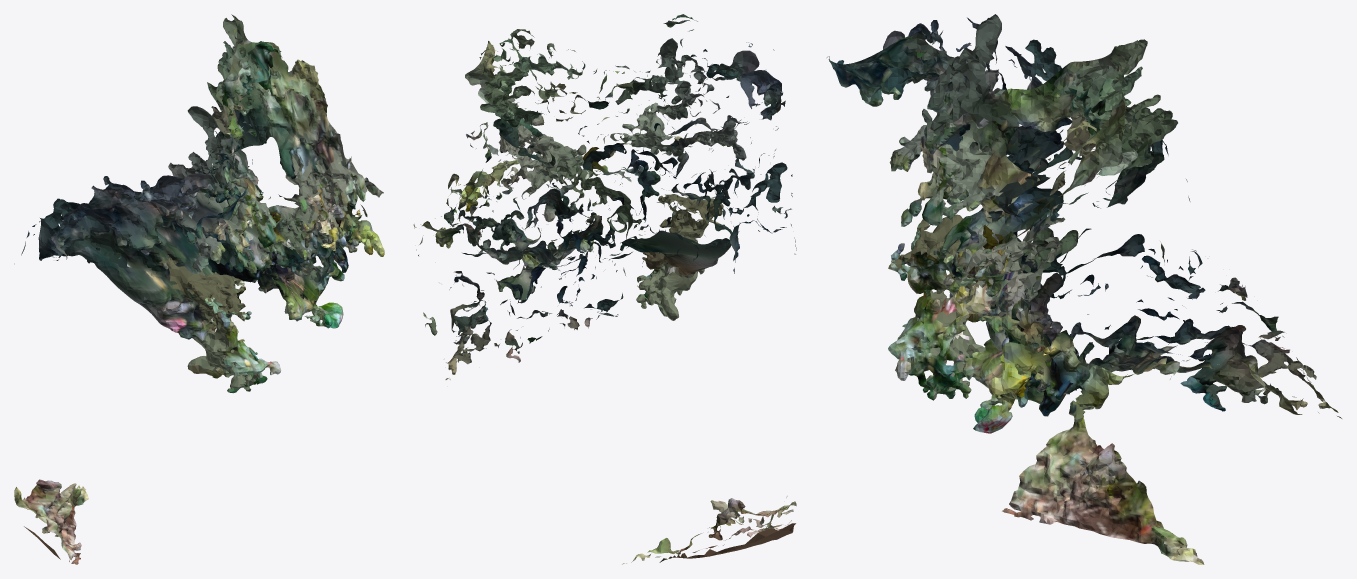
3 renders of one model, left to right at view 1: azimuth 30°, elevation 25°; view 2: azimuth 150°, elevation 25°; view 3: azimuth 270°, elevation 25°, orthographic. The views are drawn at different scales.
Size of the model in its own units: 1.18 by 1.5 by 1.16.
Materials: 1 (1 with a texture image).
